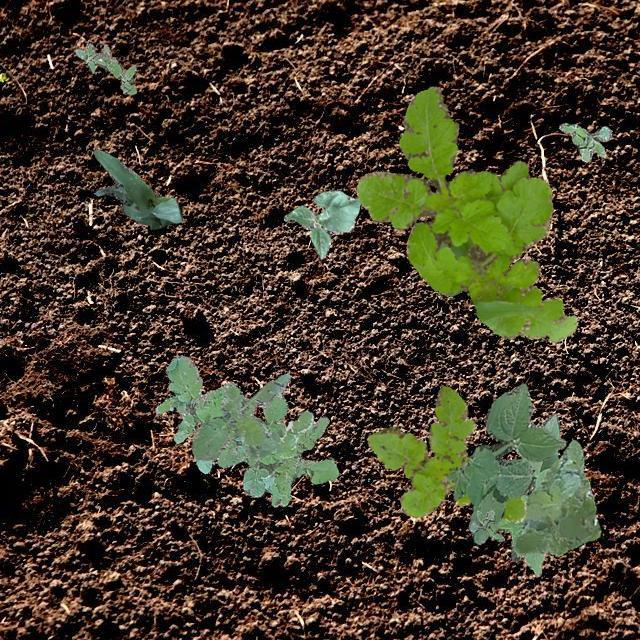crop: (496, 414, 558, 576), (92, 148, 182, 228), (282, 190, 360, 258)
weed: (356, 86, 576, 342), (154, 354, 338, 506), (366, 384, 524, 522), (448, 382, 566, 544), (190, 372, 312, 460), (512, 438, 600, 556), (74, 42, 136, 94), (558, 122, 610, 160), (468, 508, 503, 540)
